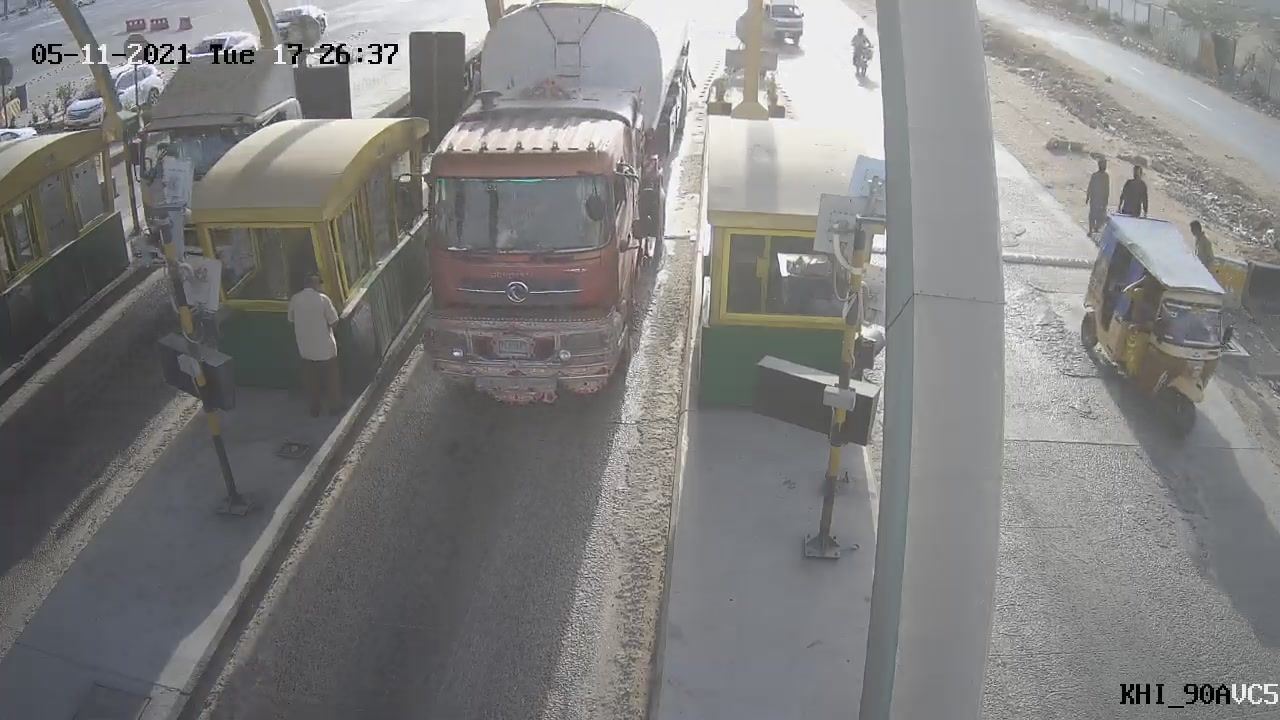F6: (378, 1, 710, 430)
